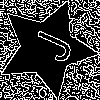J: (21, 23, 75, 66)
